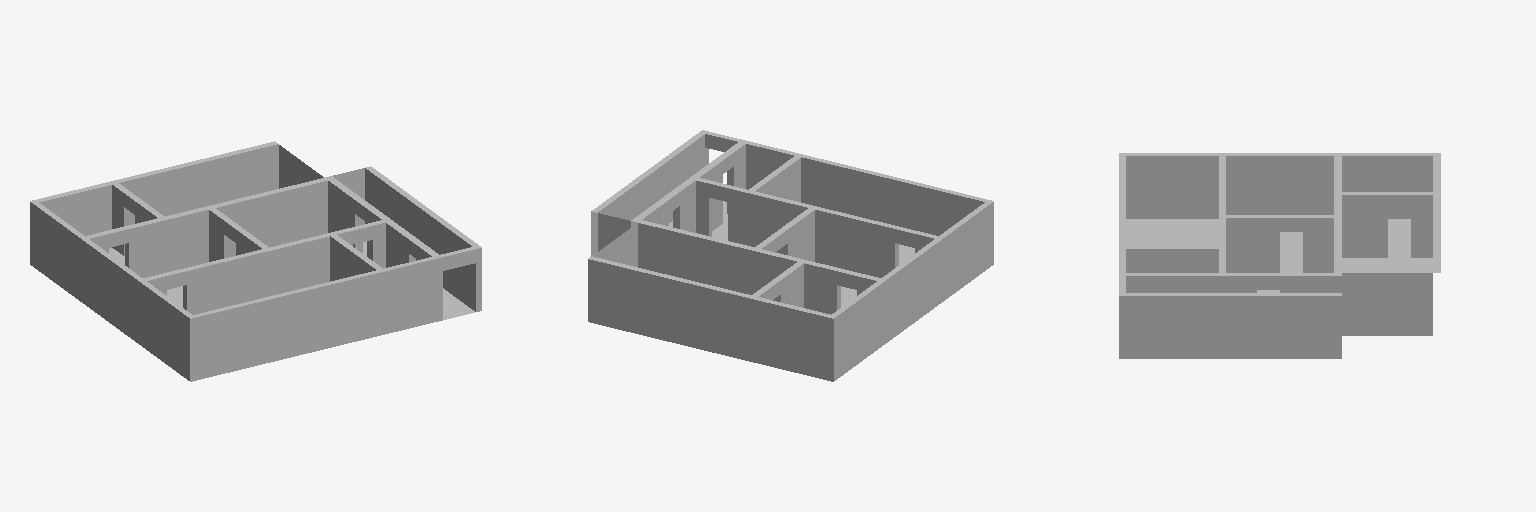
File: room2.obj
3 views of the same model, side by side, from view 1: azimuth 30°, elevation 25°; view 2: azimuth 150°, elevation 25°; view 3: azimuth 270°, elevation 25° (orthographic).
Parts seen in each view (by area): view 1: pPlane2; view 2: pPlane2; view 3: pPlane2.
Part boxes in pixels (bbox=[...]): pPlane2: bbox=[30, 141, 481, 381]; pPlane2: bbox=[588, 130, 993, 381]; pPlane2: bbox=[1119, 153, 1440, 358].
Bounding box in the file's own units: 43.82 × 9.06 × 41.81.